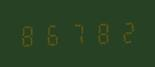eight: (18, 22, 41, 48), (90, 19, 113, 45)
seven: (66, 20, 89, 46)
six: (42, 21, 65, 47)
two: (114, 18, 137, 44)
